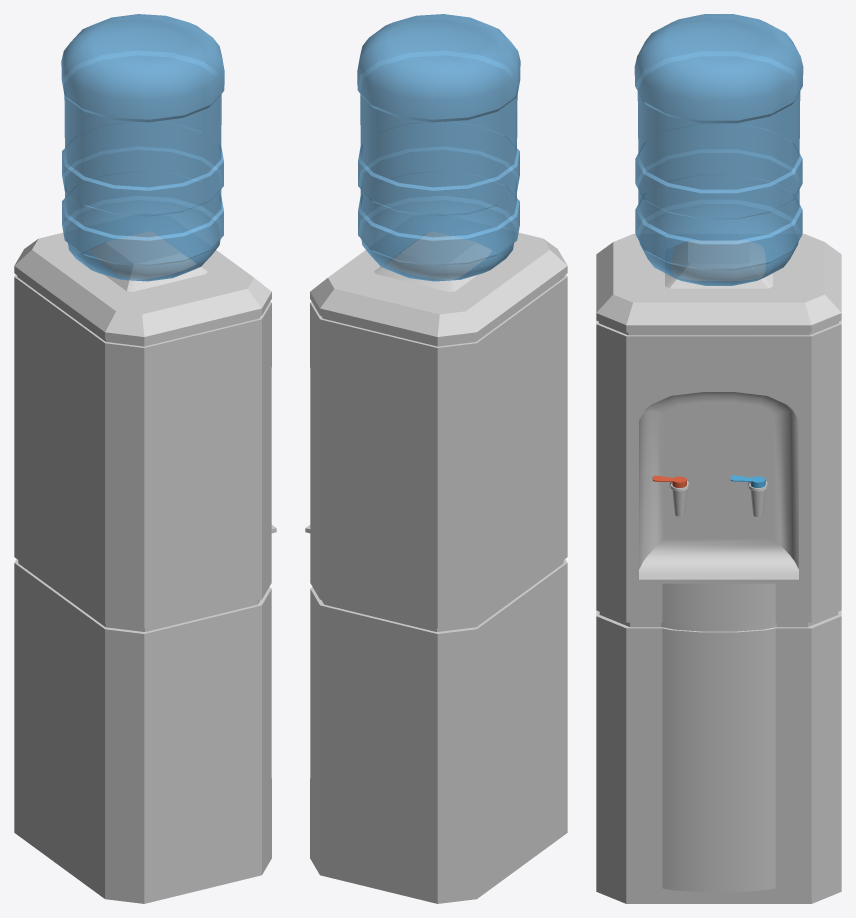
Rendered from Water Cooler.glb.
3 views of the same model, side by side, from view 1: azimuth 30°, elevation 25°; view 2: azimuth 150°, elevation 25°; view 3: azimuth 270°, elevation 25° (orthographic). The views are drawn at different scales.
Visible parts, largest first — view 1: Cooler_Cylinder.004; view 2: Cooler_Cylinder.004; view 3: Cooler_Cylinder.004.
Boxes of the visible parts, x1,y1,x2,y2 form: Cooler_Cylinder.004: (14, 14, 276, 903); Cooler_Cylinder.004: (305, 14, 567, 903); Cooler_Cylinder.004: (596, 14, 841, 903).
Size of the model in its own units: 0.9103 by 3.95 by 1.07.
